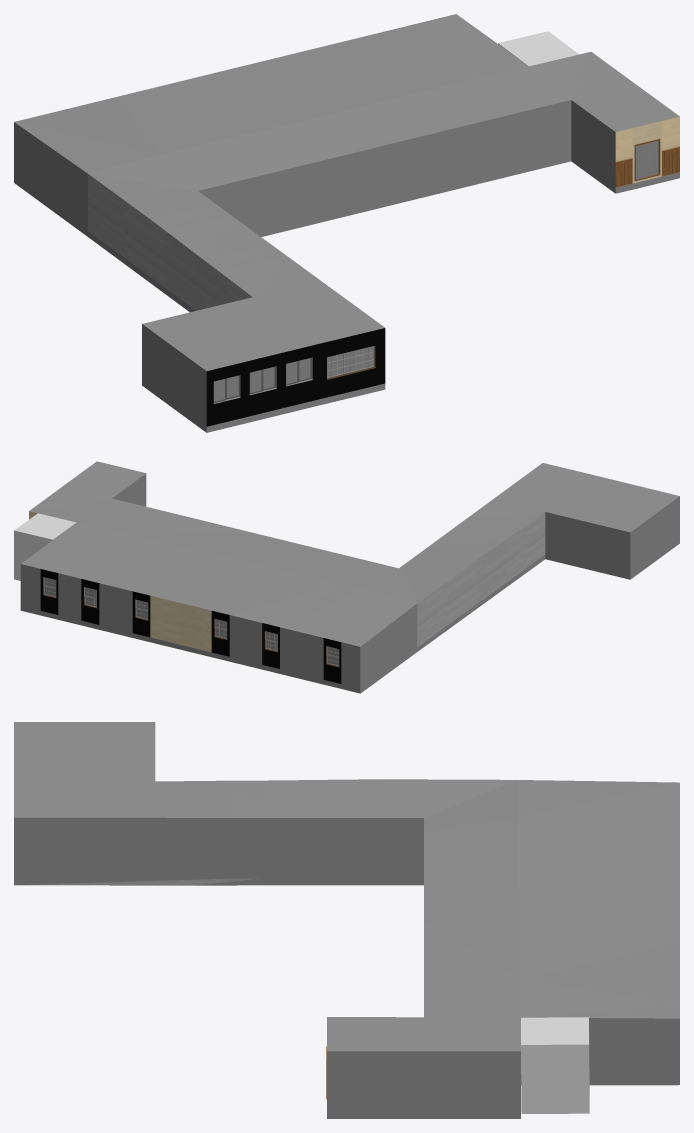
Rendered from Office_Final.FBX.
3 renders of one model, top to bottom at view 1: azimuth 30°, elevation 25°; view 2: azimuth 150°, elevation 25°; view 3: azimuth 270°, elevation 25°, orthographic. The views are drawn at different scales.
Parts seen in each view (by area): view 1: Planimetria, Box001, finestra ufficio012; view 2: Planimetria, Box001; view 3: Planimetria, Box001.
Boxes of the visible parts, x1=… form: Planimetria: x1=14, y1=14, x2=679, y2=432; Box001: x1=498, y1=31, x2=578, y2=66; finestra ufficio012: x1=327, y1=346, x2=374, y2=377; Planimetria: x1=20, y1=461, x2=679, y2=693; Box001: x1=14, y1=513, x2=76, y2=580; Planimetria: x1=14, y1=722, x2=679, y2=1118; Box001: x1=521, y1=1017, x2=589, y2=1113.
Bounding box in the file's own units: 41.51 × 4.28 × 35.52.
